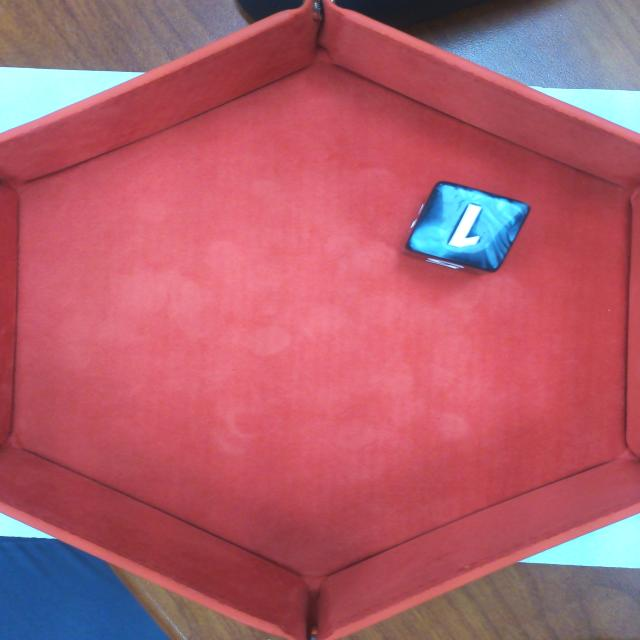dice: (405, 180, 533, 274)
